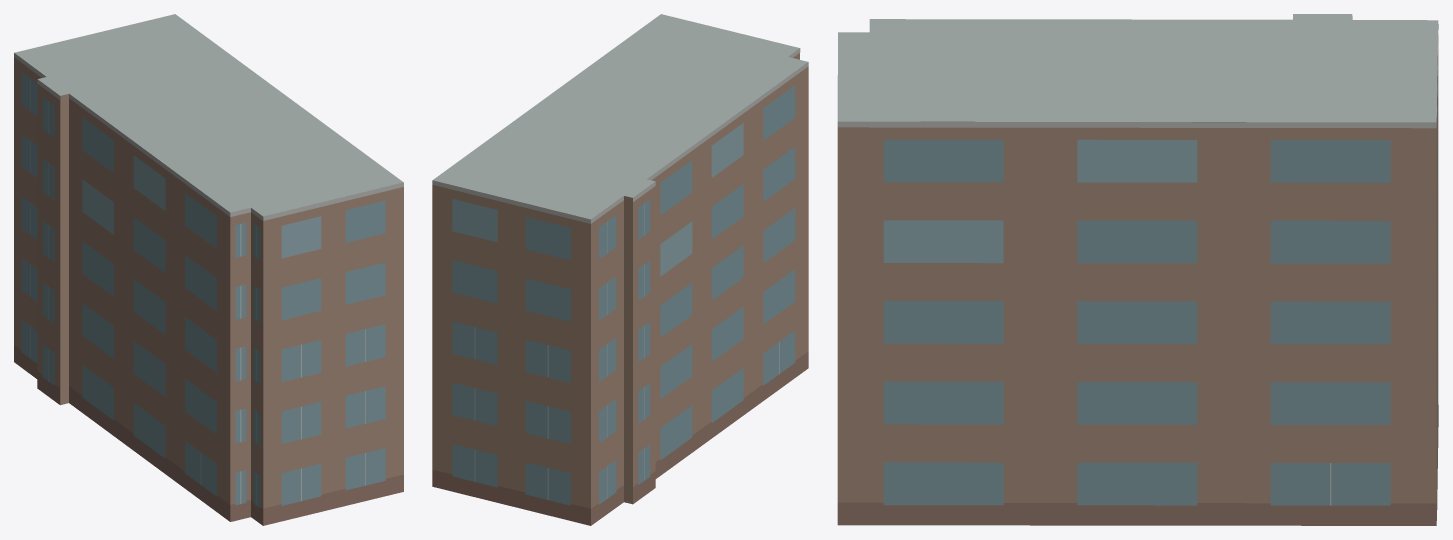
File: survey-upis-32738089.glb
3 renders of one model, left to right at view 1: azimuth 30°, elevation 25°; view 2: azimuth 150°, elevation 25°; view 3: azimuth 270°, elevation 25°, orthographic. The views are drawn at different scales.
Visible parts, largest first — view 1: survey-upis-32738089.tmp; view 2: survey-upis-32738089.tmp; view 3: survey-upis-32738089.tmp.
Part boxes in pixels (x1,y1,x2,y2): survey-upis-32738089.tmp: [14, 14, 403, 525]; survey-upis-32738089.tmp: [432, 14, 808, 525]; survey-upis-32738089.tmp: [837, 14, 1438, 525].
Size of the model in its own units: 9.74 by 16.9 by 22.82.
